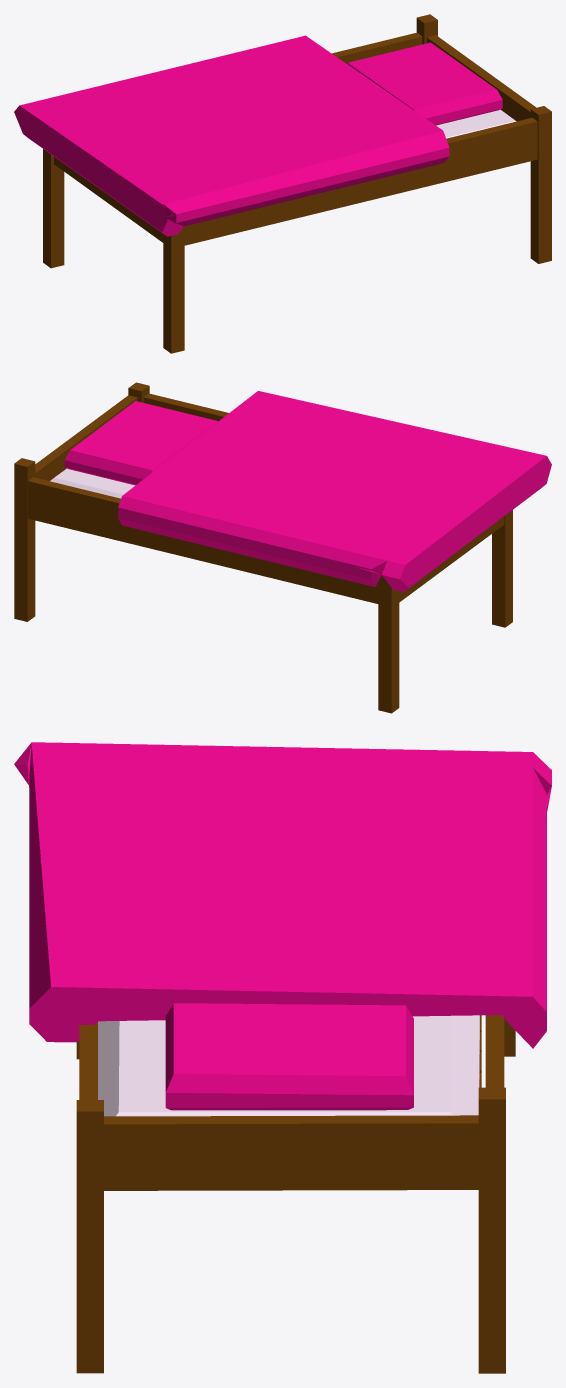
The model's file is Bed color.fbx.
3 renders of one model, top to bottom at view 1: azimuth 30°, elevation 25°; view 2: azimuth 150°, elevation 25°; view 3: azimuth 270°, elevation 25°, orthographic. The views are drawn at different scales.
Visible parts, largest first — view 1: group_pasted__pCube1; view 2: group_pasted__pCube1; view 3: group_pasted__pCube1.
Part boxes in pixels (<box>): group_pasted__pCube1: <box>14,14,551,353</box>; group_pasted__pCube1: <box>14,382,551,713</box>; group_pasted__pCube1: <box>14,742,551,1373</box>.
Size of the model in its own units: 14.68 by 5.7 by 9.68.
